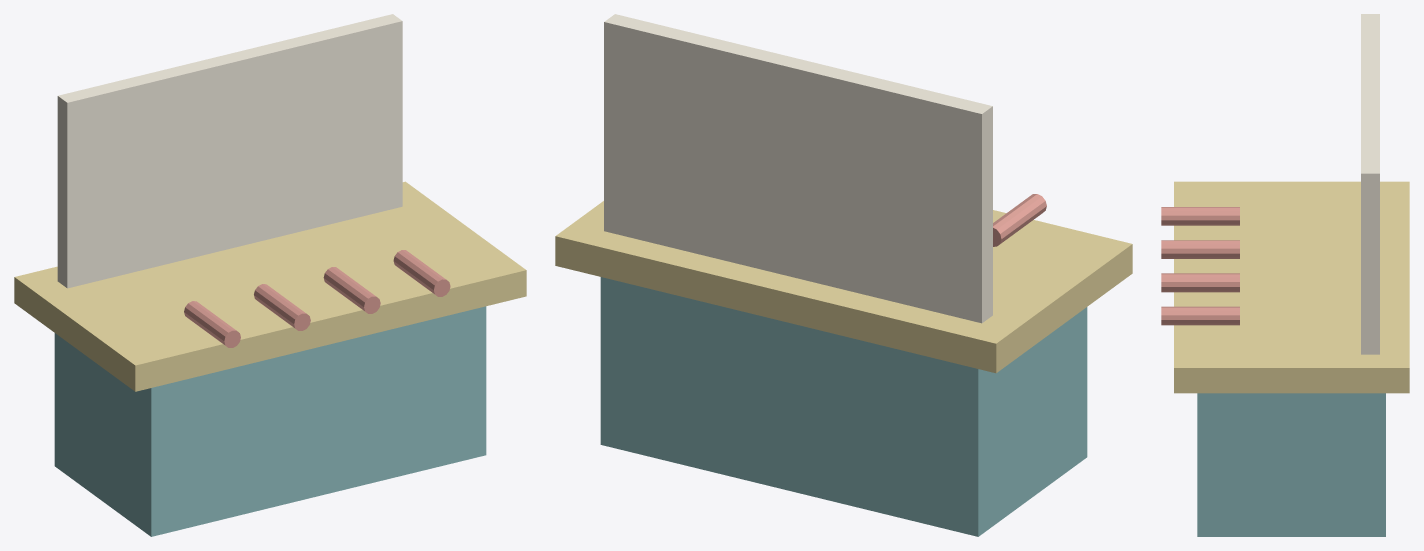
The model's file is festival_booth.glb.
The picture shows the model from 3 angles, left to right: view 1: azimuth 30°, elevation 25°; view 2: azimuth 150°, elevation 25°; view 3: azimuth 270°, elevation 25°; orthographic projection. The views are drawn at different scales.
Parts seen in each view (by area): view 1: part_02, part_00, part_01, part_06, part_05, part_03, part_04; view 2: part_02, part_00, part_01, part_03; view 3: part_01, part_00, part_02, part_05, part_06, part_03, part_04.
Boxes of the visible parts, left/top/right/bottom form: part_02: left=57, top=14, right=402, bottom=288; part_00: left=54, top=306, right=486, bottom=536; part_01: left=14, top=181, right=526, bottom=391; part_06: left=393, top=250, right=450, bottom=296; part_05: left=323, top=267, right=380, bottom=313; part_03: left=184, top=301, right=240, bottom=347; part_04: left=254, top=284, right=310, bottom=330; part_02: left=604, top=14, right=992, bottom=323; part_00: left=600, top=277, right=1087, bottom=536; part_01: left=555, top=201, right=1132, bottom=373; part_03: left=993, top=194, right=1046, bottom=246; part_01: left=1174, top=181, right=1409, bottom=393; part_00: left=1197, top=393, right=1385, bottom=536; part_02: left=1361, top=14, right=1379, bottom=354; part_05: left=1161, top=273, right=1239, bottom=292; part_06: left=1161, top=306, right=1239, bottom=325; part_03: left=1161, top=207, right=1239, bottom=225; part_04: left=1161, top=240, right=1239, bottom=258.
Size of the model in its own units: 2.8 by 2.55 by 1.58.
